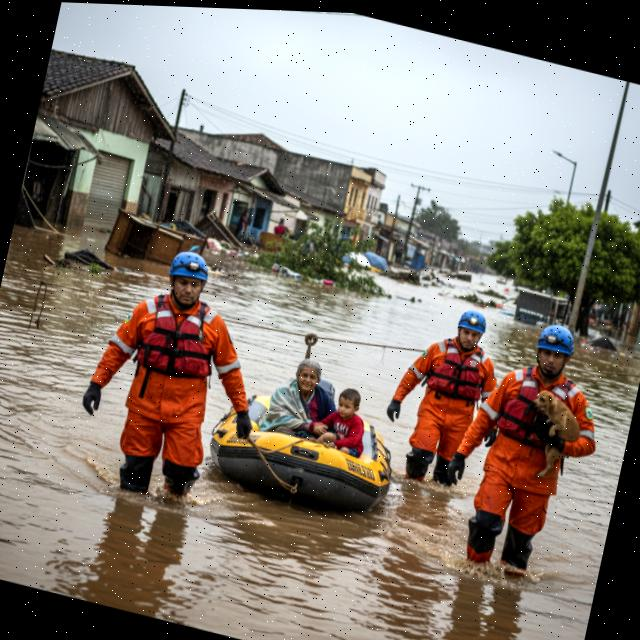civilian: (263, 351, 342, 448), (318, 376, 374, 464)
dog: (514, 385, 592, 486)
rescuer: (51, 225, 288, 526), (441, 304, 626, 612), (376, 292, 516, 493)
